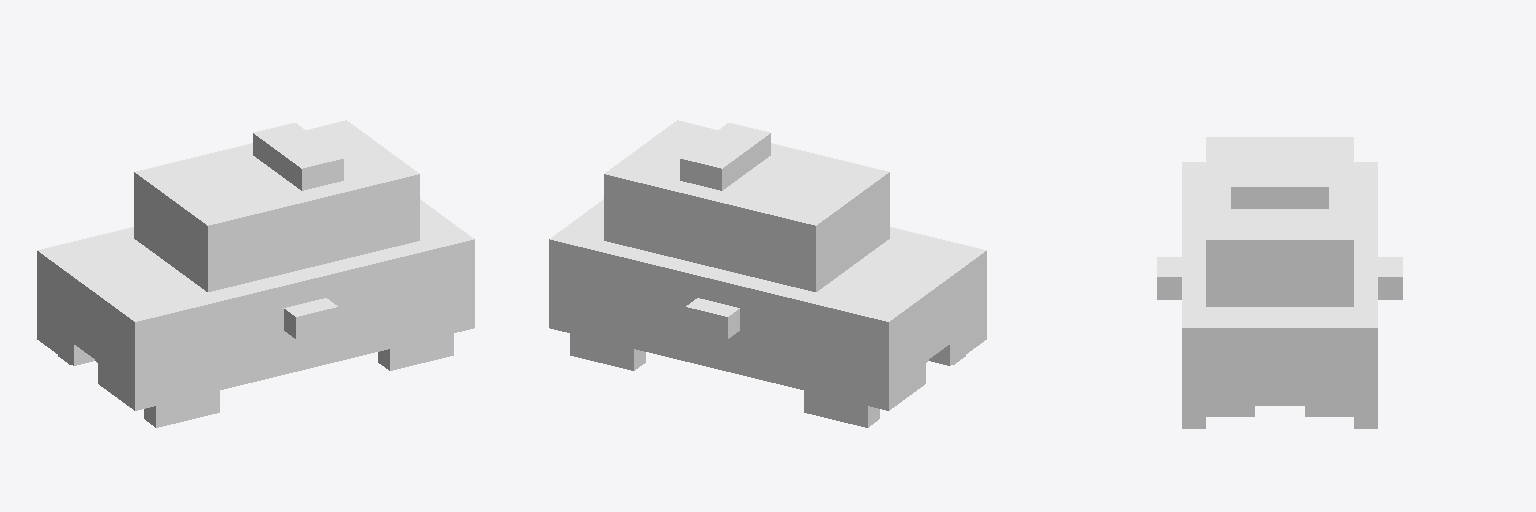
Rendered from police_car.obj.
The picture shows the model from 3 angles: view 1: azimuth 30°, elevation 25°; view 2: azimuth 150°, elevation 25°; view 3: azimuth 270°, elevation 25°; orthographic projection.
Visible parts, largest first — view 1: object 1; view 2: object 1; view 3: object 1.
Boxes of the visible parts, x1,y1,x2,y2 form: object 1: [37, 120, 474, 427]; object 1: [549, 120, 986, 427]; object 1: [1157, 137, 1402, 428].
Bounding box in the file's own units: 1.6 × 0.9 × 1.